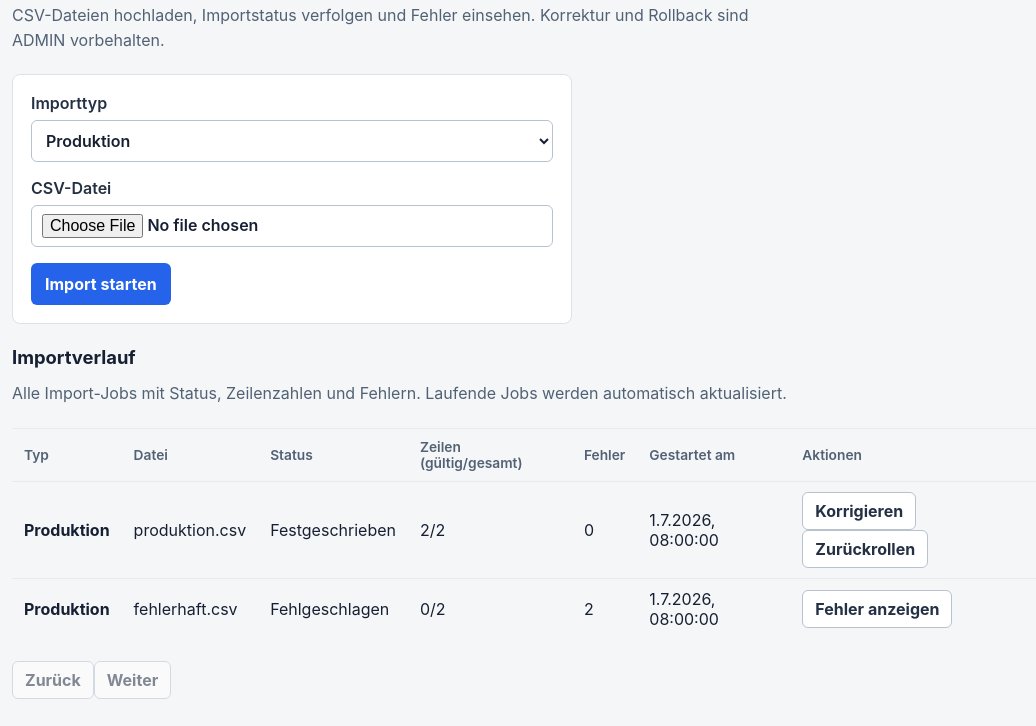
ImportsPage › renders German job statuses and shows error details for a failed job
The image size is (1036, 726).
Expected: the text "Festgeschrieben" is shown, [258,481,408,578]
Expected: the text "Fehlgeschlagen" is shown, [258,578,408,639]
Click the button "Fehler anzeigen": [877, 609] box [802,590,952,628]
(page scrolled)
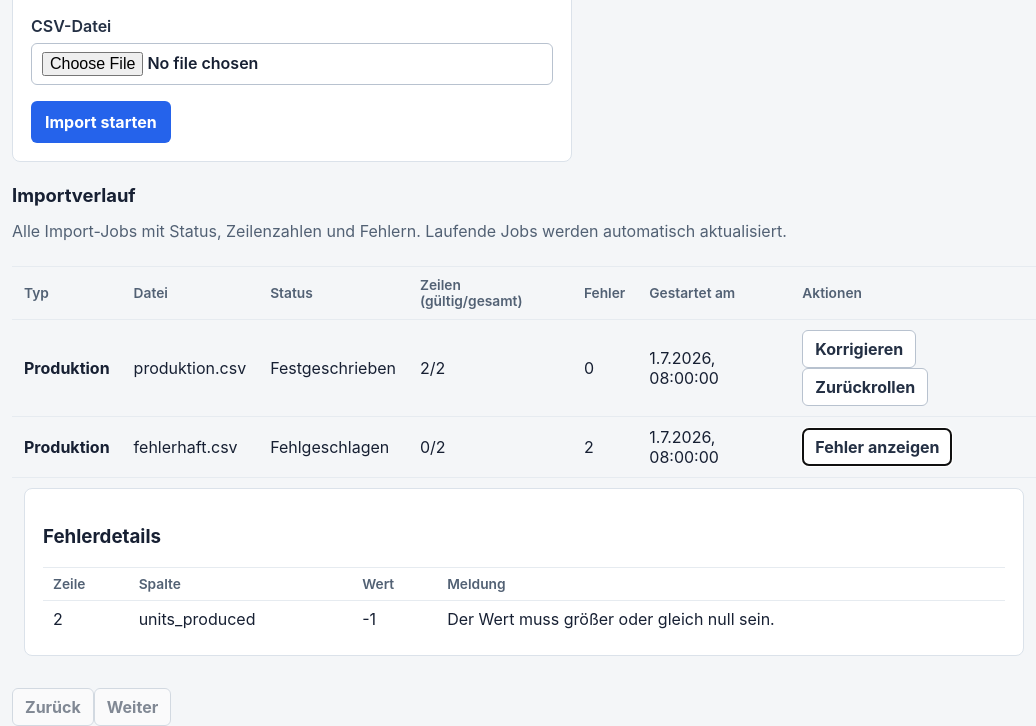
Result: the heading "Fehlerdetails" is shown at [43,525,161,548]
Result: the text "units_produced" is shown at [129,600,352,637]
Result: the text "Der Wert muss größer oder gleich null sein." is shown at [437,600,1005,637]
